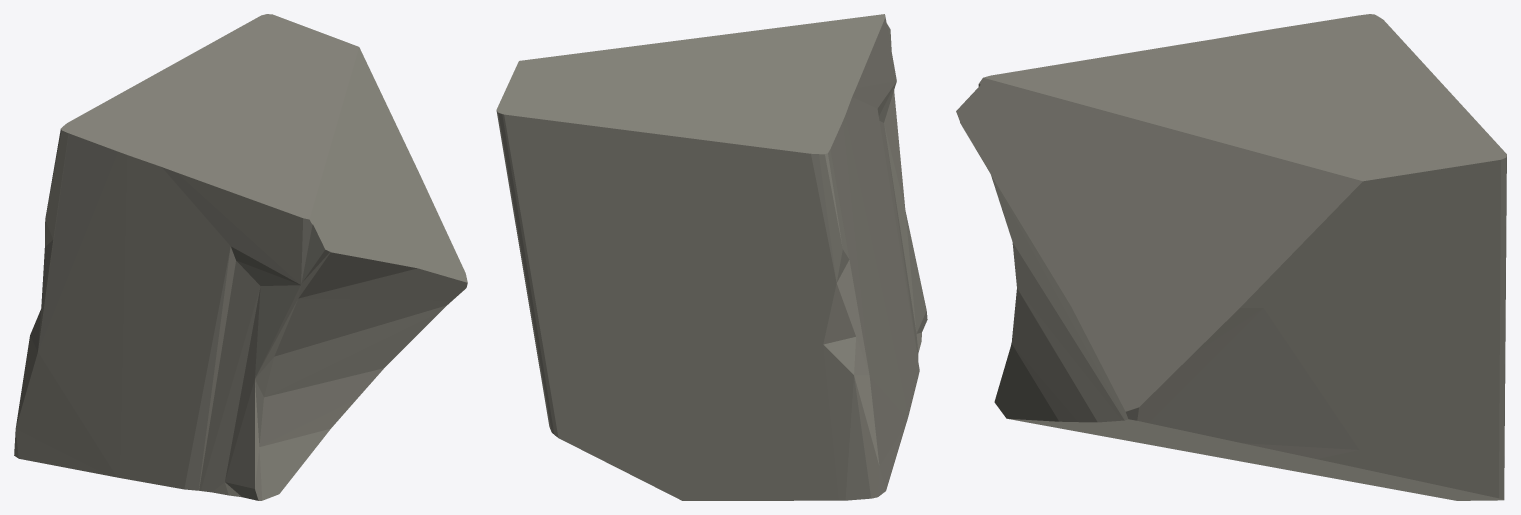
File: SM_catapult_stone.fbx
The picture shows the model from 3 angles, left to right: view 1: azimuth 30°, elevation 25°; view 2: azimuth 150°, elevation 25°; view 3: azimuth 270°, elevation 25°; orthographic projection. The views are drawn at different scales.
Visible parts, largest first — view 1: catapult_stone; view 2: catapult_stone; view 3: catapult_stone.
Part boxes in pixels (box(x1,y1,x2,y2)): catapult_stone: box(14, 14, 467, 500); catapult_stone: box(496, 14, 927, 500); catapult_stone: box(956, 14, 1506, 500).
Bounding box in the file's own units: 41.32 × 37.39 × 42.37.
